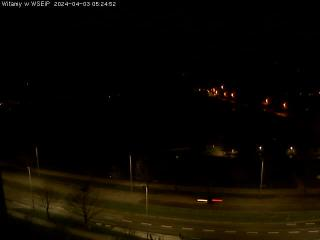car: (196, 194, 225, 207)
